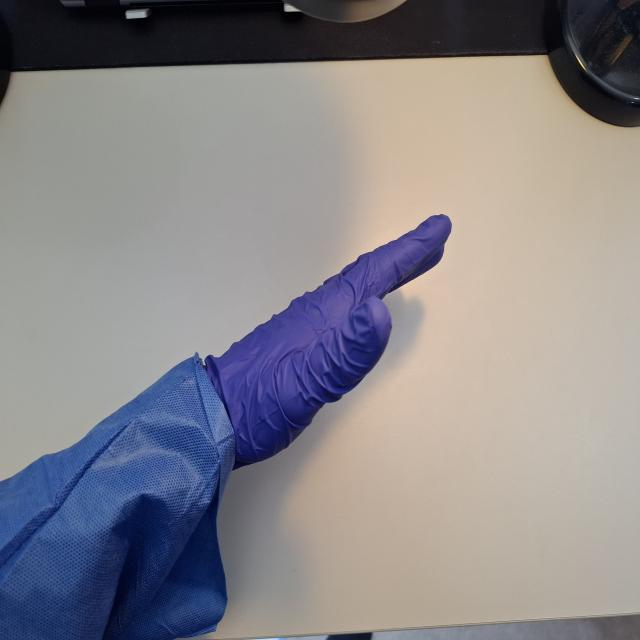glove_on: (202, 210, 454, 473)
